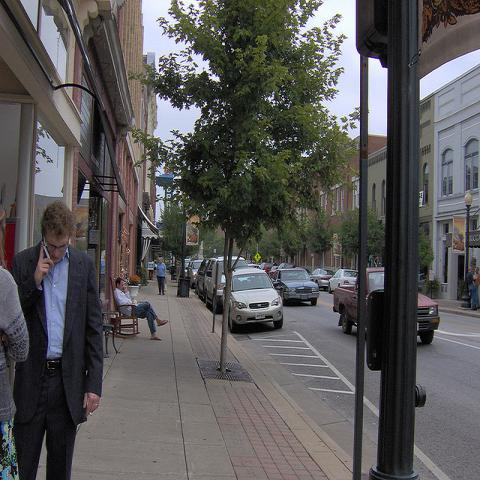car: (222, 268, 283, 333), (270, 267, 320, 306), (328, 268, 358, 292), (194, 258, 210, 301), (311, 267, 335, 288), (190, 260, 203, 288), (186, 260, 194, 280)
truck: (333, 266, 441, 344), (204, 255, 248, 312)
